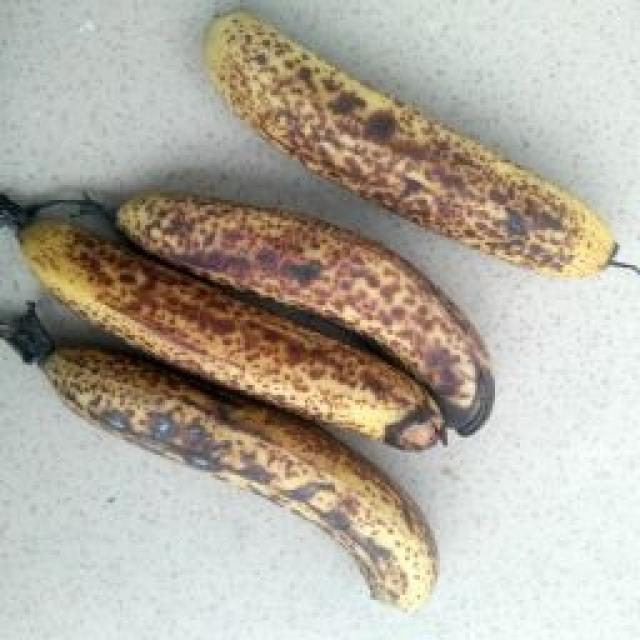banana: (99, 162, 501, 585)
